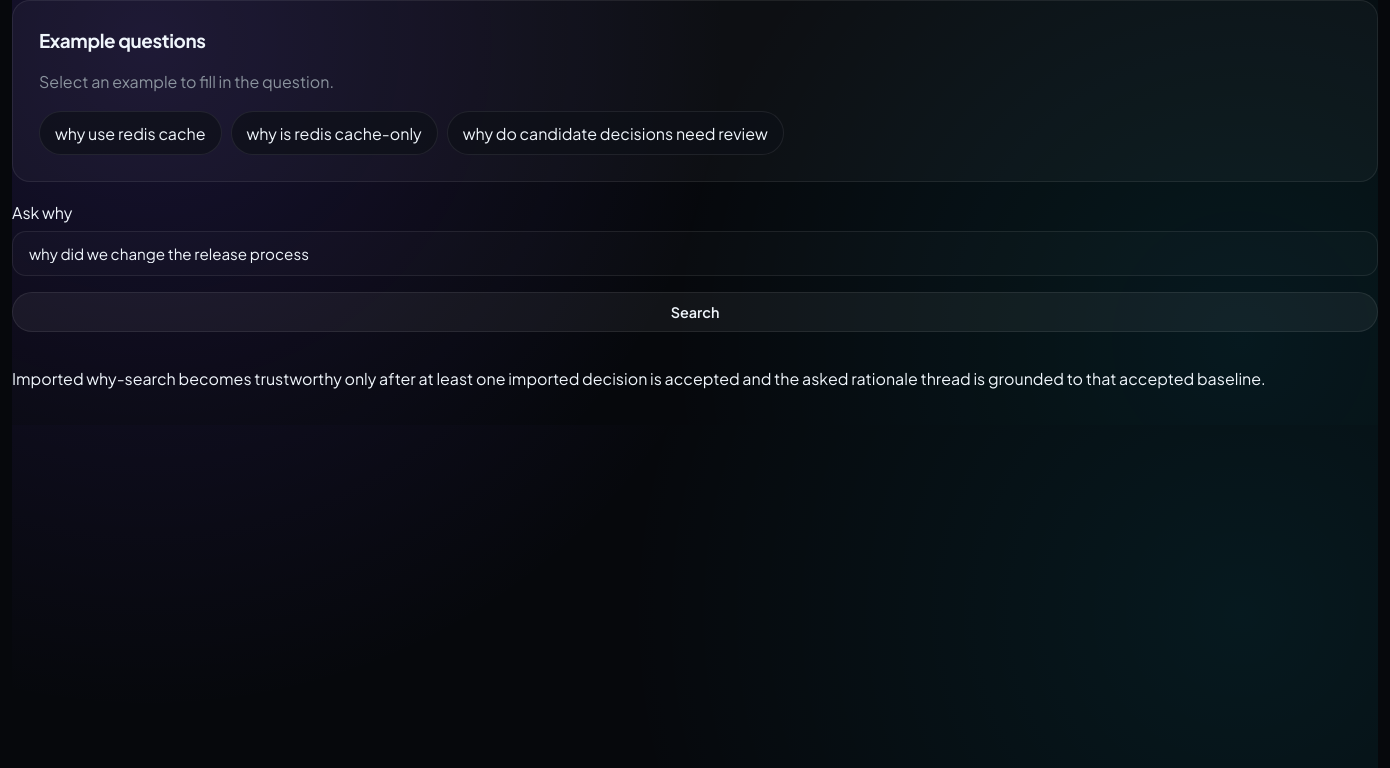
QueryForm › renders supporting context separately from the primary answer
Click the button "Search".
click(695, 312)  # box [12,292,1378,332]
(page scrolled)
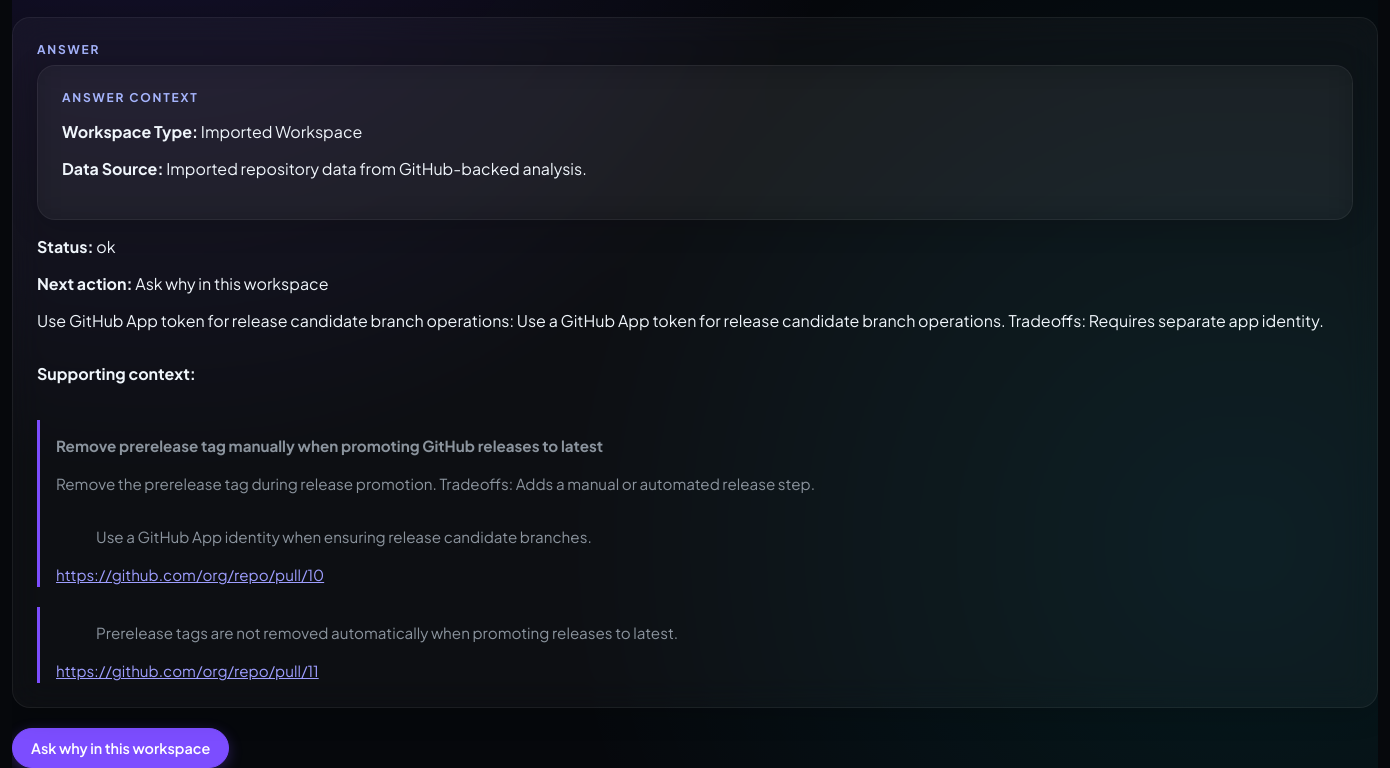
Check: the text "Use GitHub App token for release candidate branch operations:" is shown, box [37,310,1324,331]
Check: the text "Supporting context:" is shown, box [37,363,196,384]
Check: the text "Remove prerelease tag manually when promoting GitHub releases to latest" is shown, box [56,436,603,455]
